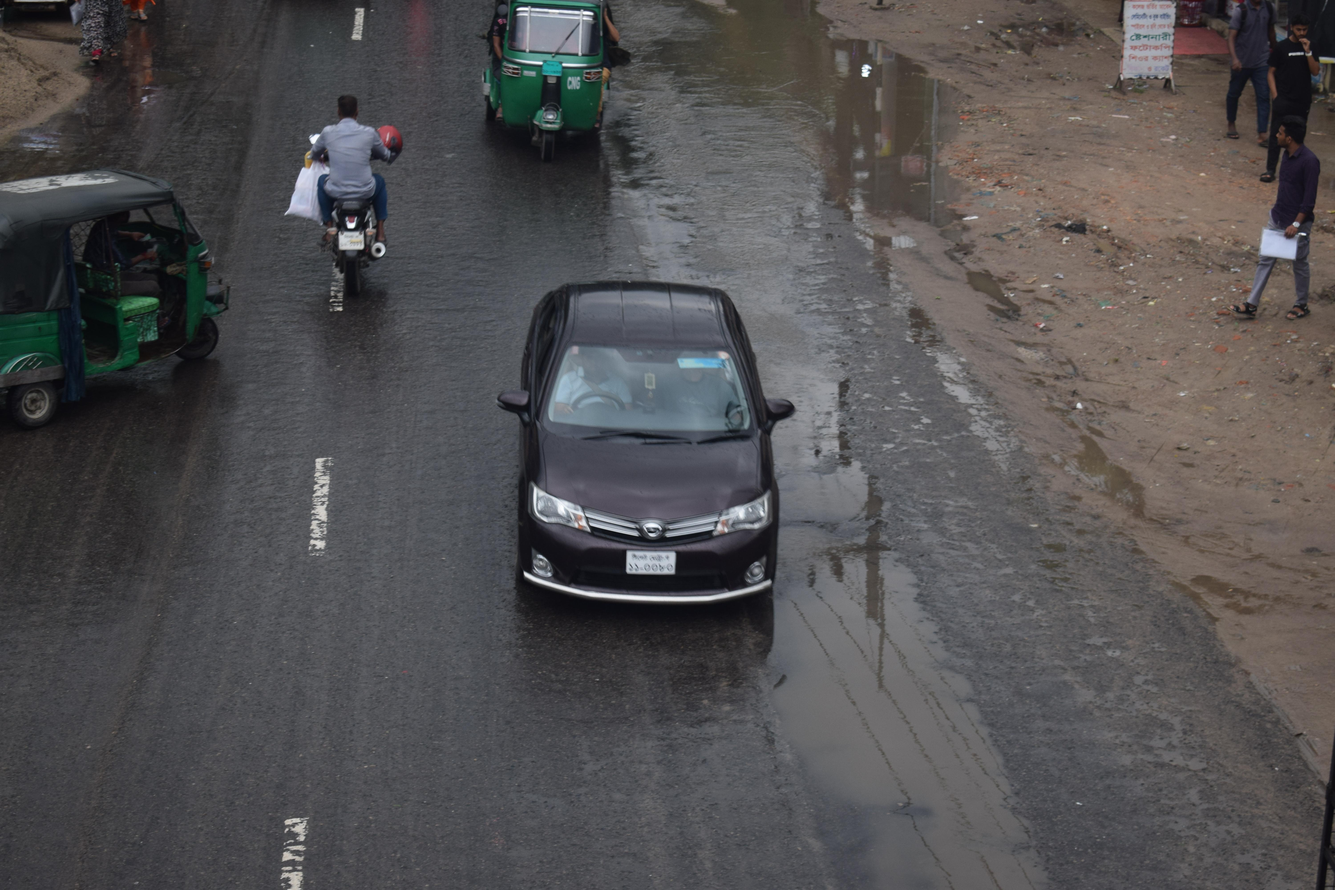Bike: (238, 74, 435, 325)
Car: (448, 224, 852, 690)
